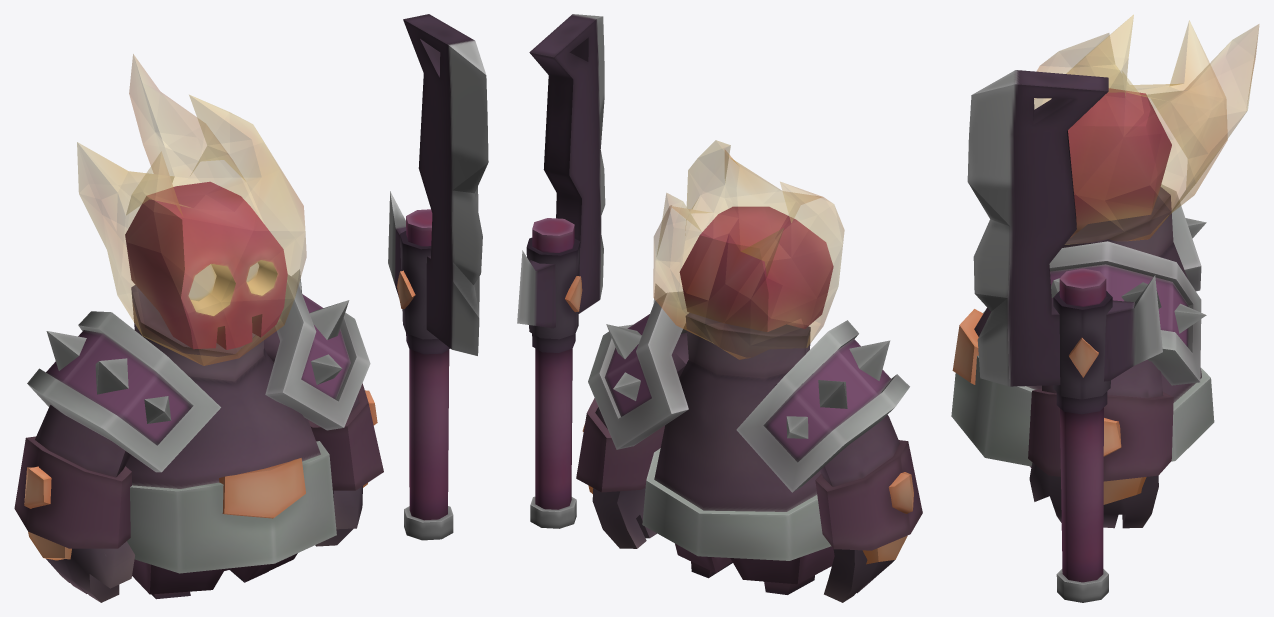
3 renders of one model, left to right at view 1: azimuth 30°, elevation 25°; view 2: azimuth 150°, elevation 25°; view 3: azimuth 270°, elevation 25°, orthographic. The views are drawn at different scales.
Parts seen in each view (by area): view 1: Geode; view 2: Geode; view 3: Geode.
Part boxes in pixels (x1,y1,x2,y2): Geode: (14,14,488,602); Geode: (517,14,922,602); Geode: (951,14,1259,602).
Size of the model in its own units: 6.05 by 7.01 by 3.8.
Materials: 2 (2 with a texture image).
